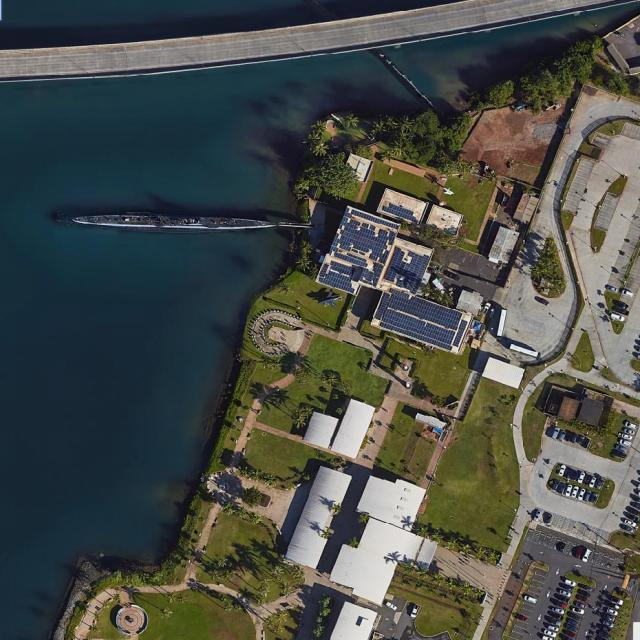Submarine: (67, 212, 273, 230)
